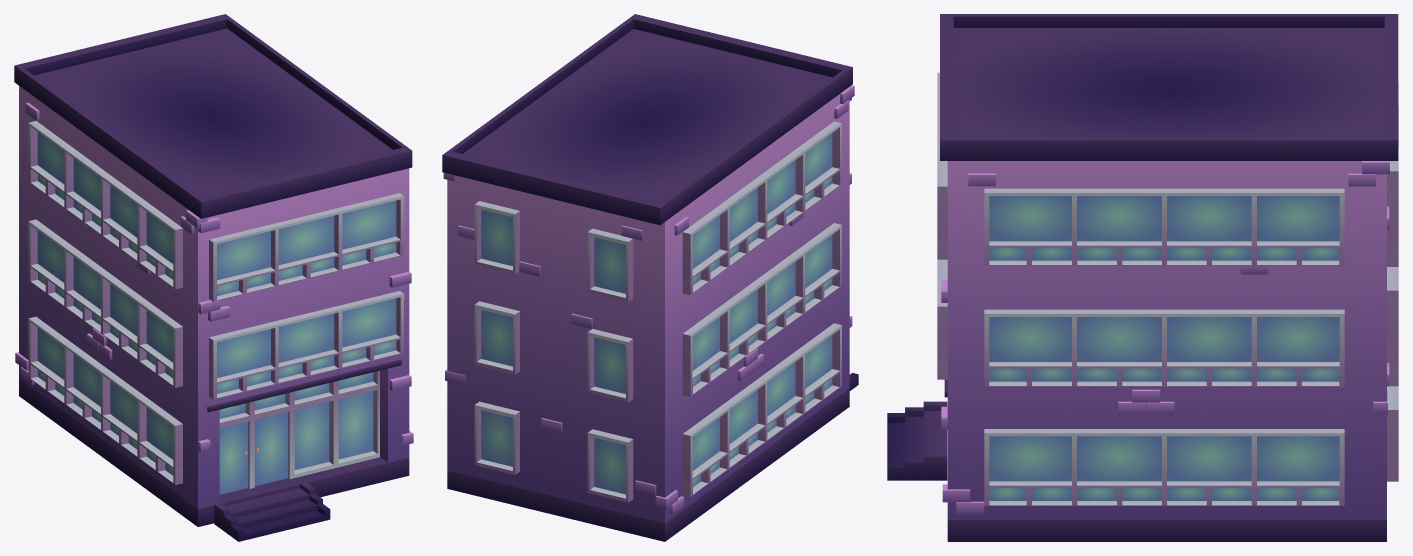
File: SM_3F_L_Windowed_02.fbx
3 views of the same model, side by side, from view 1: azimuth 30°, elevation 25°; view 2: azimuth 150°, elevation 25°; view 3: azimuth 270°, elevation 25° (orthographic). The views are drawn at different scales.
Visible parts, largest first — view 1: SM_3F_L_Windowed_02; view 2: SM_3F_L_Windowed_02; view 3: SM_3F_L_Windowed_02.
Part boxes in pixels (bbox=[...]): SM_3F_L_Windowed_02: bbox=[14, 14, 413, 541]; SM_3F_L_Windowed_02: bbox=[442, 14, 858, 541]; SM_3F_L_Windowed_02: bbox=[887, 14, 1398, 541].
Size of the model in its own units: 7.96 by 12.7 by 11.02.
